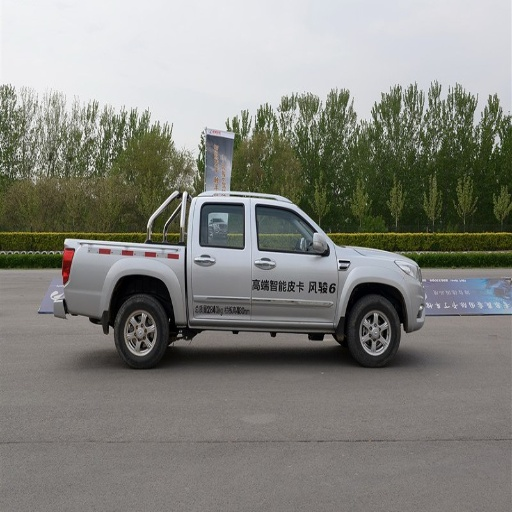back_right_door: (190, 199, 250, 315)
front_right_door: (251, 200, 338, 319)
trunk: (61, 243, 185, 323)
